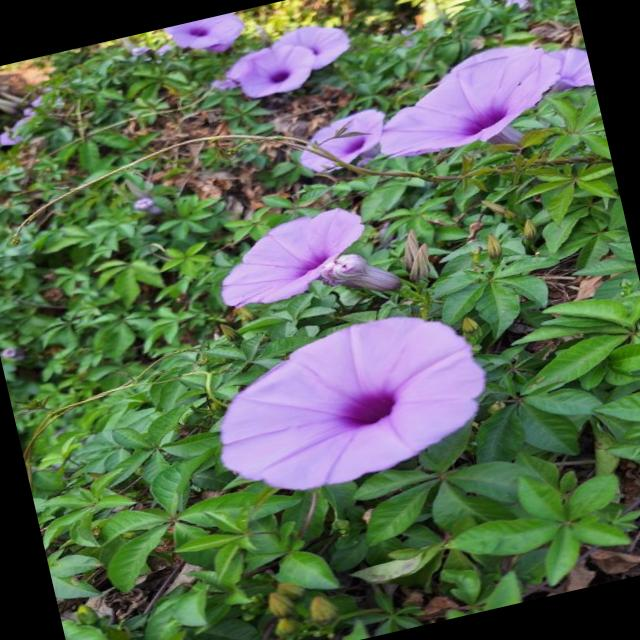ipomoea: (192, 296, 506, 512), (358, 31, 580, 170), (202, 194, 406, 330), (210, 15, 362, 110)
